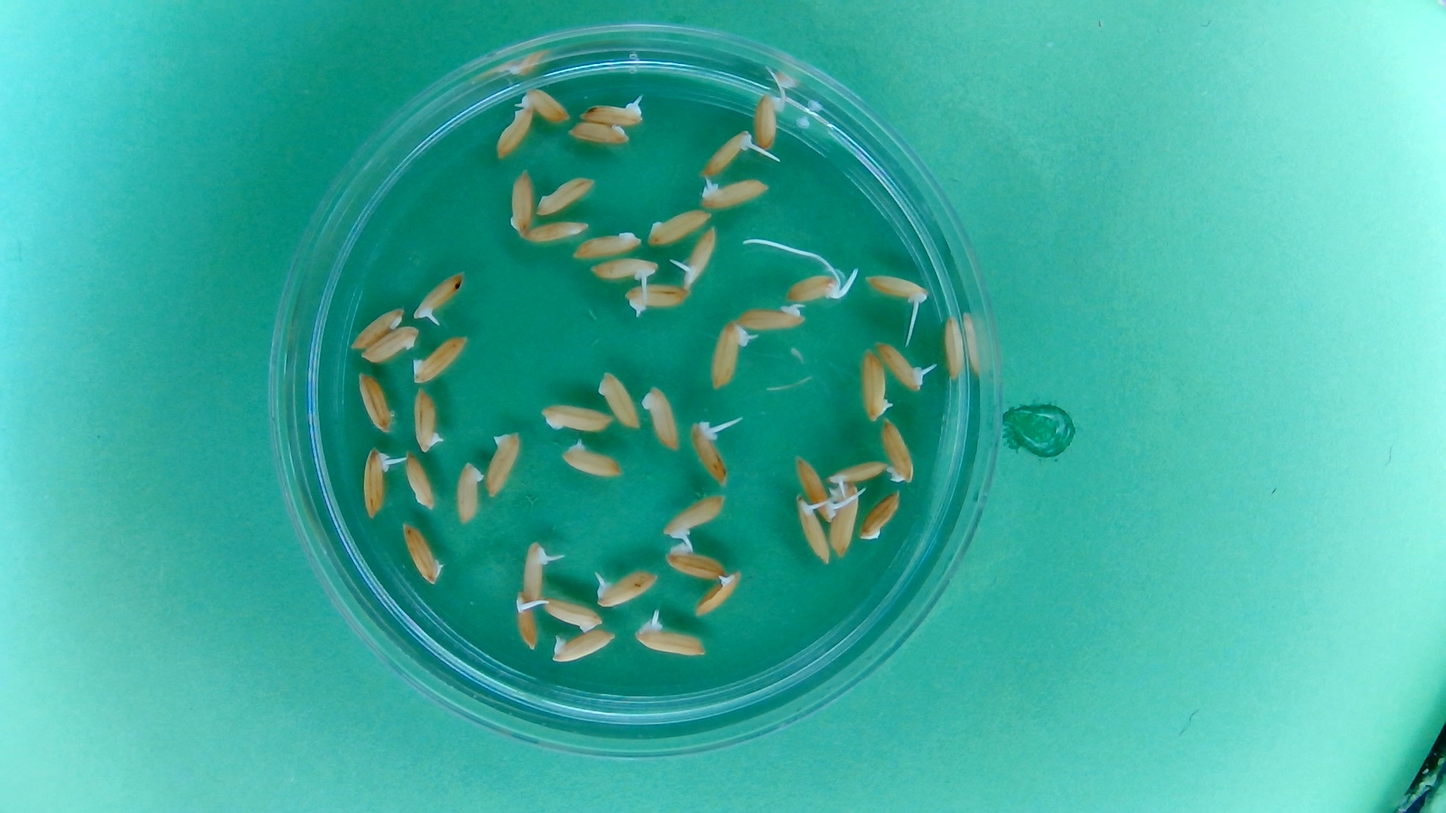no: (410, 333, 471, 386), (400, 519, 446, 587), (639, 383, 682, 455), (856, 346, 895, 423), (483, 427, 523, 500), (645, 206, 714, 248), (596, 368, 642, 431), (535, 173, 597, 218), (827, 481, 862, 559), (559, 437, 624, 479), (349, 304, 407, 351), (662, 540, 727, 581), (355, 369, 396, 434), (538, 400, 616, 434), (857, 487, 905, 542), (879, 417, 917, 486), (570, 227, 644, 262), (359, 323, 421, 364), (493, 103, 536, 162), (733, 302, 807, 333), (452, 458, 485, 526), (751, 87, 786, 151), (401, 449, 436, 511), (541, 597, 603, 632), (506, 166, 536, 237), (520, 217, 591, 245), (939, 313, 967, 383), (565, 120, 630, 147)
yes: (661, 491, 728, 540), (795, 453, 840, 524), (707, 318, 750, 391), (412, 269, 468, 324), (634, 617, 706, 658), (688, 418, 730, 487), (592, 566, 660, 607), (698, 129, 755, 177), (875, 341, 928, 392), (550, 626, 618, 664), (794, 496, 830, 567), (698, 174, 771, 209), (692, 570, 744, 618), (517, 540, 551, 613), (359, 446, 393, 518), (865, 271, 931, 307), (624, 282, 691, 316), (783, 269, 847, 304), (587, 254, 660, 284), (578, 96, 646, 127), (685, 225, 720, 285), (824, 457, 889, 489), (519, 86, 572, 124), (410, 392, 444, 450), (514, 591, 541, 652)
